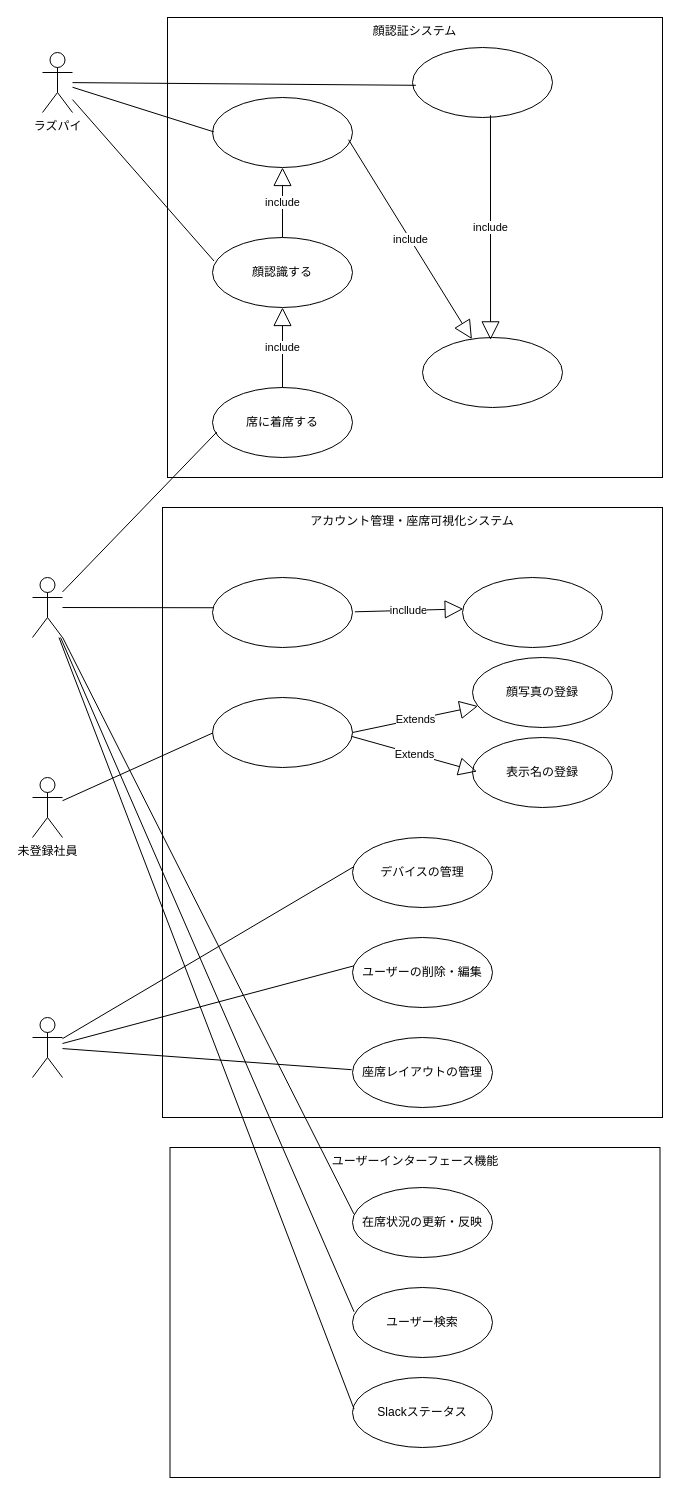
The diagram is 680 pixels wide and 1495 high, and some of its shapes have lost their labels. The centre of each missing label's shape, as x and y in pixels:
"アカウント登録" goes at [282,732].
"データベースへ登録する" goes at [492,372].
"ユーザー登録情報の更新" goes at [532,612].
"ログイン" goes at [282,612].
"登録社員" goes at [47,607].
"着席ステータス監視" goes at [482,82].
"管理者" goes at [47,1047].
"顔認証する" goes at [282,132].
